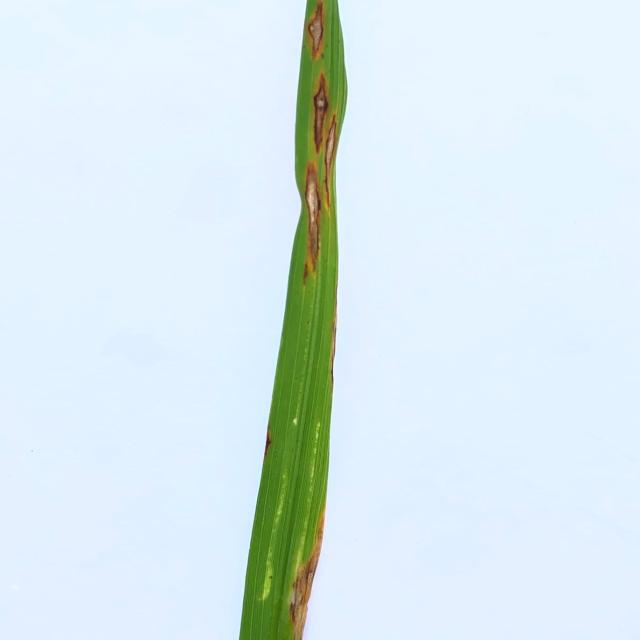leaf blast: (286, 511, 317, 640), (298, 164, 328, 276), (307, 74, 334, 152), (304, 3, 328, 59), (322, 119, 342, 170)
